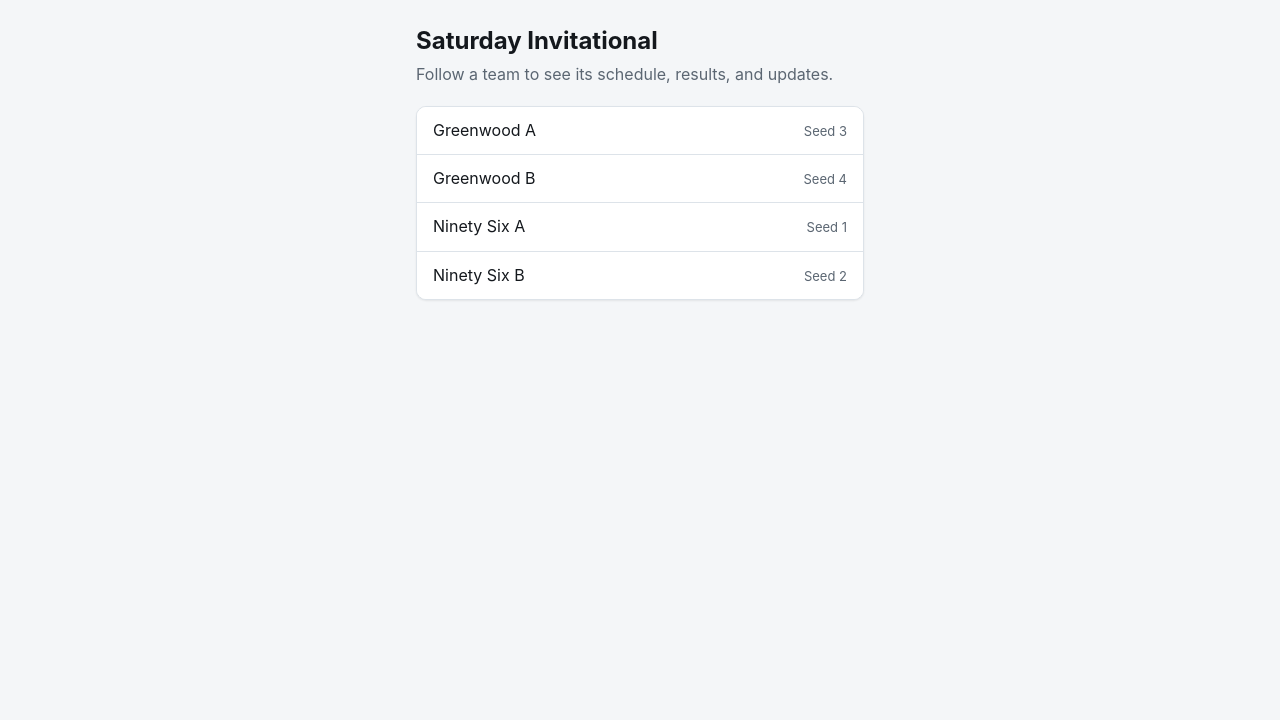
Scenario: what the page must not invent › live scores appear when the tournament does publish them
Click the button "Ninety Six A Seed 1" at (479, 226), box [417, 203, 863, 252]
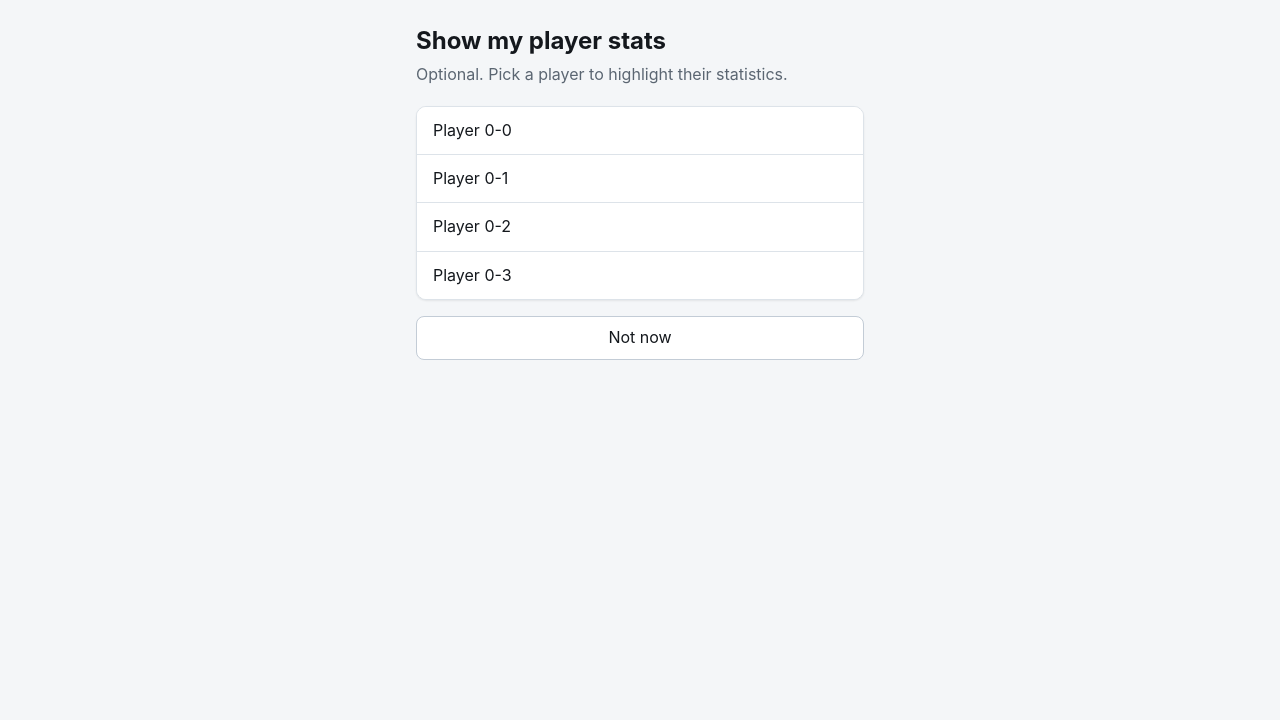
Click the button "Not now" at (640, 338), box [416, 316, 864, 360]
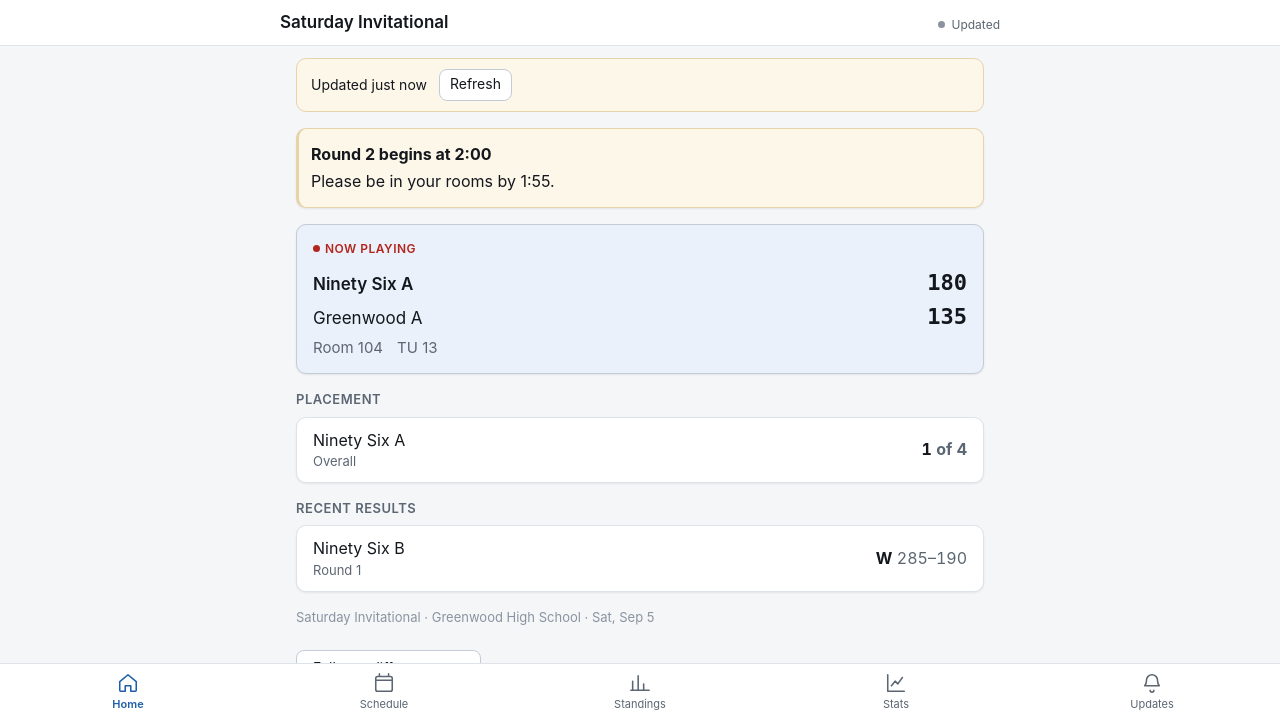
Expected: the element that starts with "Updated just now" shows "180", [927, 270, 967, 295]
Expected: the element that starts with "Updated just now" shows "135", [927, 304, 967, 329]
